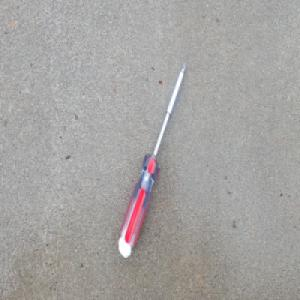Screwdriver: (117, 58, 188, 261)
